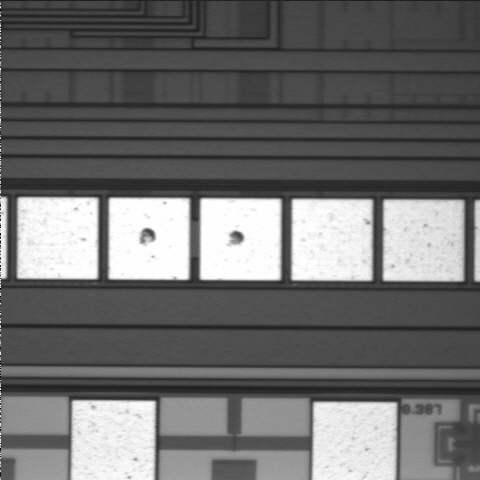pad: (17, 197, 98, 279), (109, 198, 190, 280), (200, 198, 281, 280), (292, 199, 373, 281), (383, 200, 464, 281)
